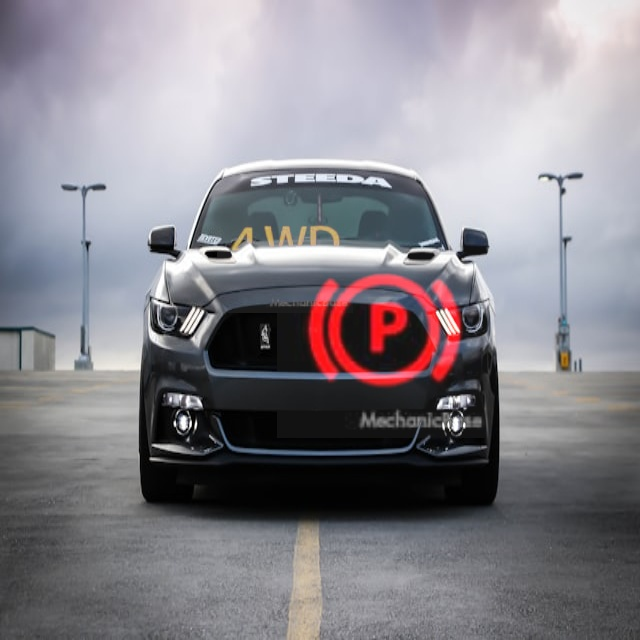symbol: (277, 225, 490, 438), (217, 177, 353, 313)
